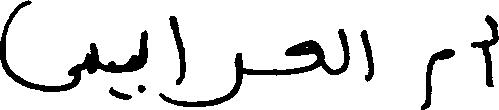X: (0, 0, 95, 96), (205, 48, 242, 109), (423, 44, 454, 109), (287, 35, 324, 79), (170, 11, 186, 109), (480, 10, 498, 91), (360, 25, 374, 86), (337, 24, 349, 79), (139, 25, 146, 97)
